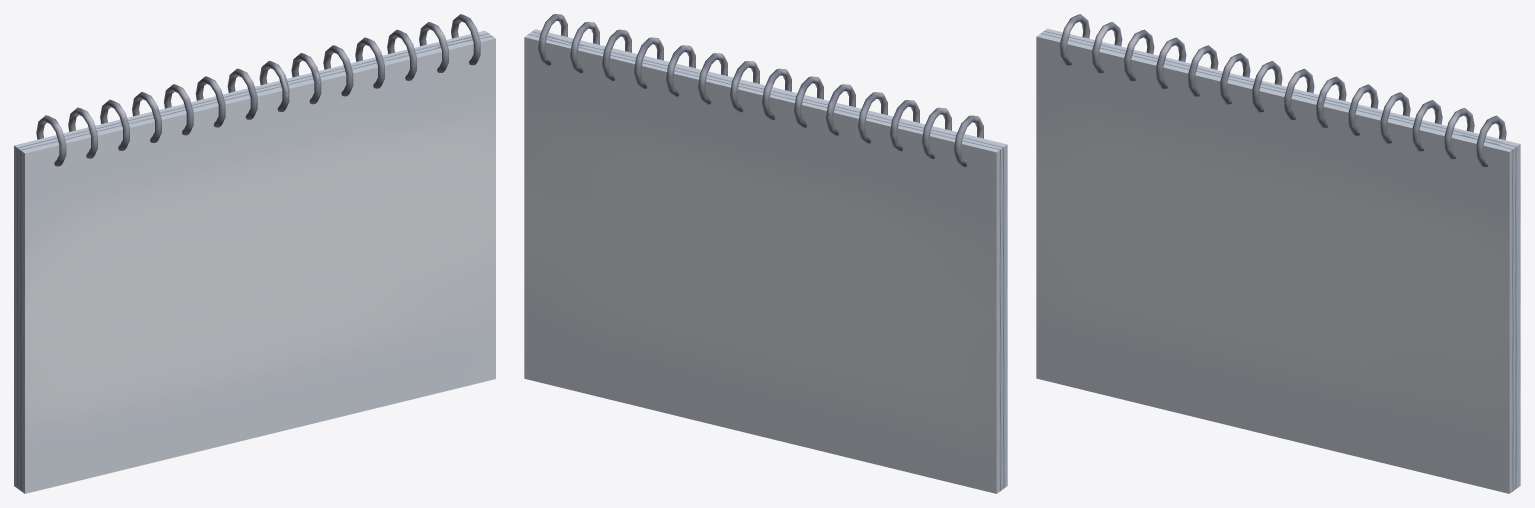
File: sketch_book.fbx
The picture shows the model from 3 angles, left to right: view 1: azimuth 30°, elevation 25°; view 2: azimuth 150°, elevation 25°; view 3: azimuth 330°, elevation 25°; orthographic projection.
Parts seen in each view (by area): view 1: Torus014; view 2: Torus014; view 3: Torus014.
Part boxes in pixels (left/top/right/bottom): Torus014: left=14, top=14, right=495, bottom=493; Torus014: left=524, top=14, right=1007, bottom=493; Torus014: left=1036, top=14, right=1520, bottom=493.
Bounding box in the file's own units: 22.08 × 16.32 × 2.14.
1 material, 1 textured.
